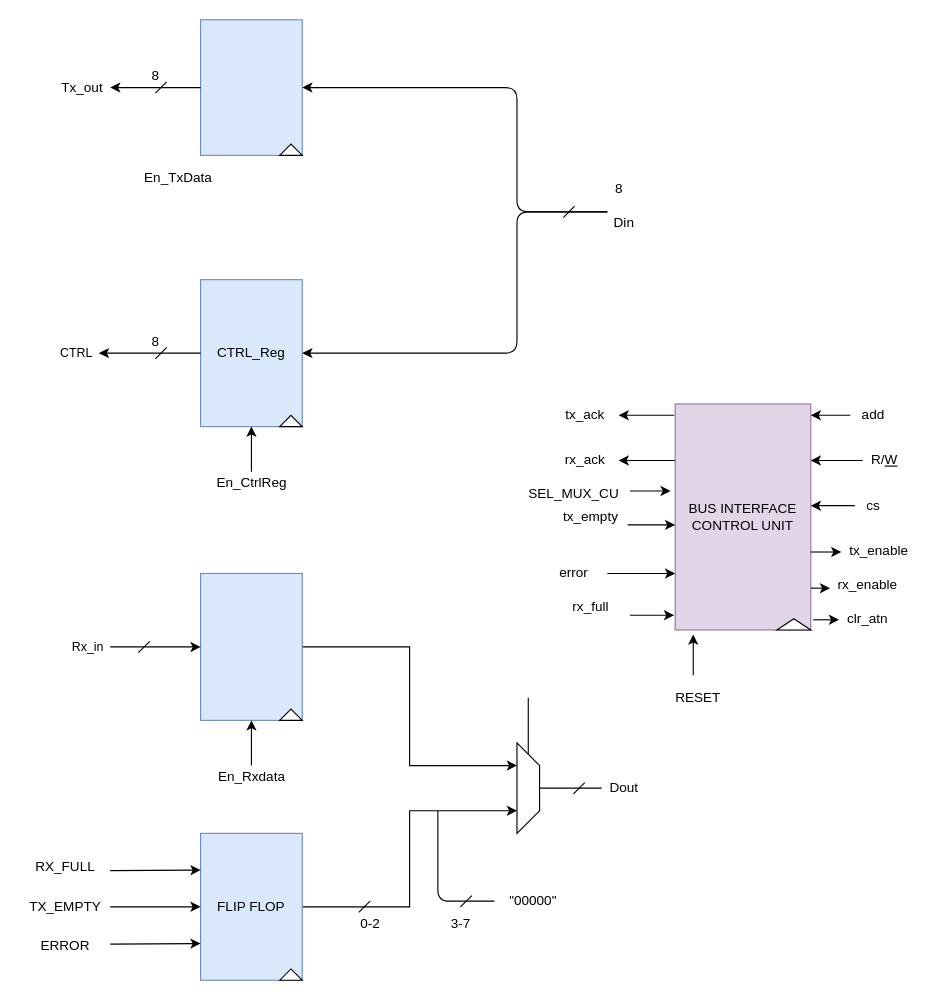
Some shapes in this 937 by 1000 pixel diagram are drawn without their labels. The shapes that lost their labels are listed below. From the top down, each one's centre as x and y in pixels, then its label:
At pixel 250 87: "Tx_Data".
At pixel 250 646: "Rx_Data".
